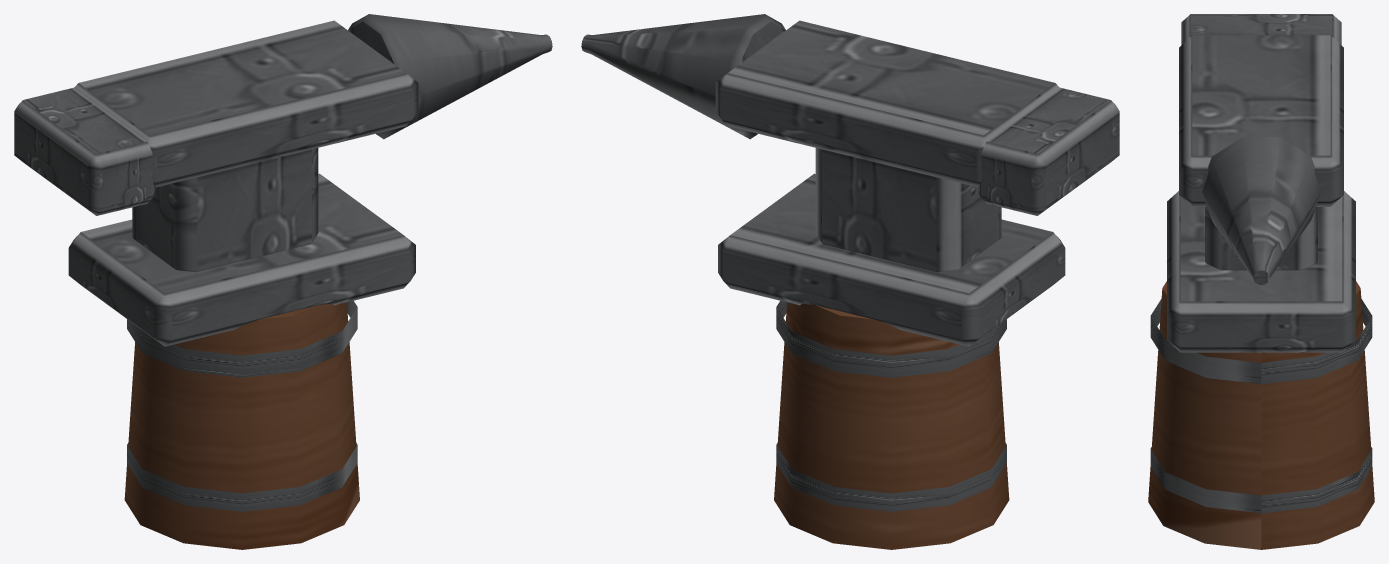
Rendered from SM_Anvil.glb.
The picture shows the model from 3 angles, left to right: view 1: azimuth 30°, elevation 25°; view 2: azimuth 150°, elevation 25°; view 3: azimuth 270°, elevation 25°; orthographic projection. The views are drawn at different scales.
Parts seen in each view (by area): view 1: SM_Anvil; view 2: SM_Anvil; view 3: SM_Anvil.
Boxes of the visible parts, x1,y1,x2,y2 form: SM_Anvil: (14, 14, 552, 549); SM_Anvil: (581, 14, 1119, 549); SM_Anvil: (1148, 14, 1374, 549).
Size of the model in its own units: 1.17 by 1 by 0.48.
Materials: 1 (1 with a texture image).
